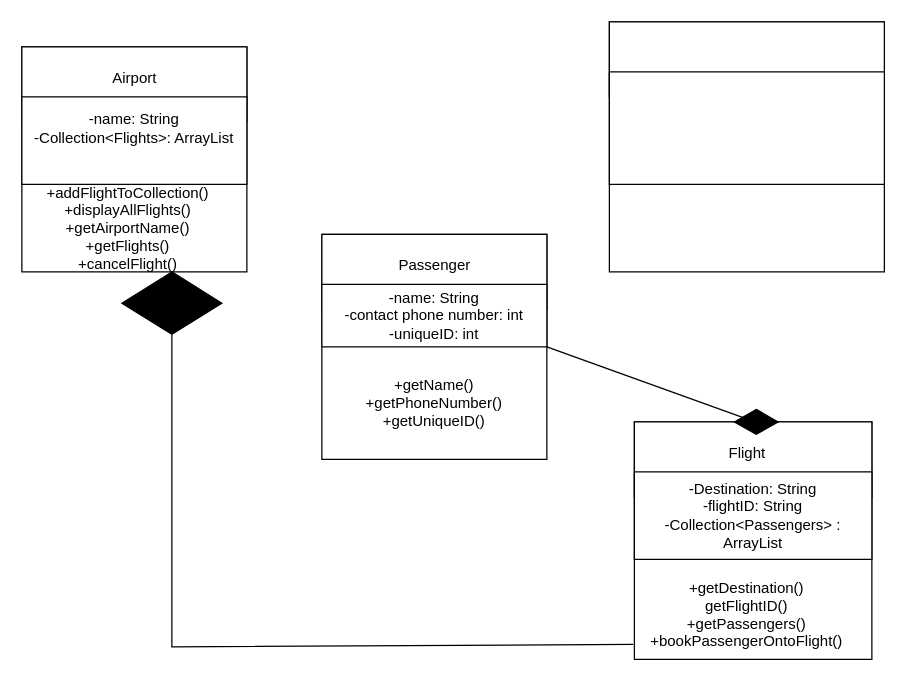
The diagram is 906 pixels wide and 681 high, and some of its shapes have lost their labels. The shapes that lost their labels are listed below. From the top down, each one's box as (x1, y1, x2, y2) in pixels, then its label:
(608, 21, 884, 97): IFly
(608, 71, 884, 184): -isTakenOff: boolean
